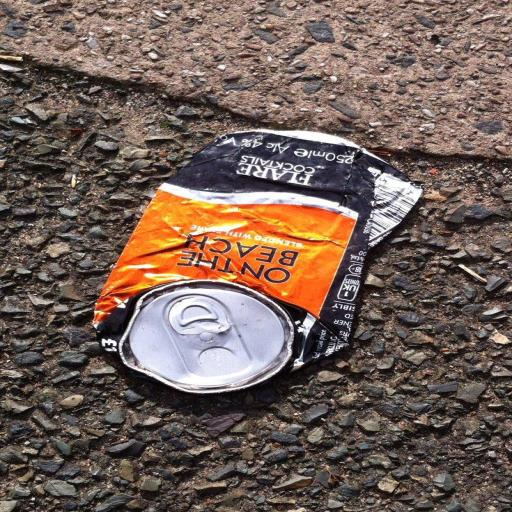can: (91, 128, 422, 397)
pop tab: (168, 297, 229, 336)
